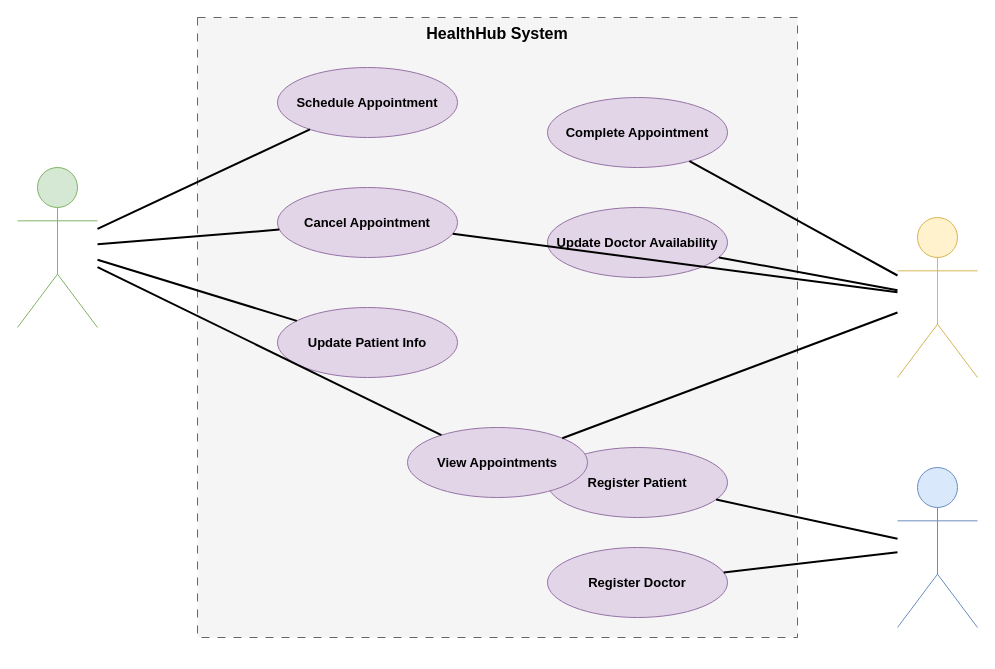
Some shapes in this 995 by 669 pixel diagram are drawn without their labels. The centre of each missing label's shape, as x and y in pixels:
Admin: the point at 937,547
Doctor: the point at 937,297
Patient: the point at 57,247
